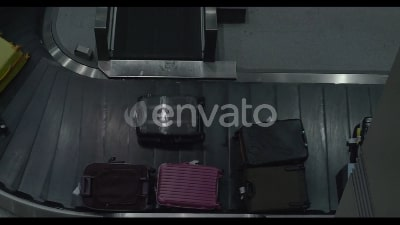baggage: (78, 156, 156, 215), (152, 157, 227, 216), (129, 95, 210, 148), (228, 120, 314, 168), (243, 167, 309, 216)
